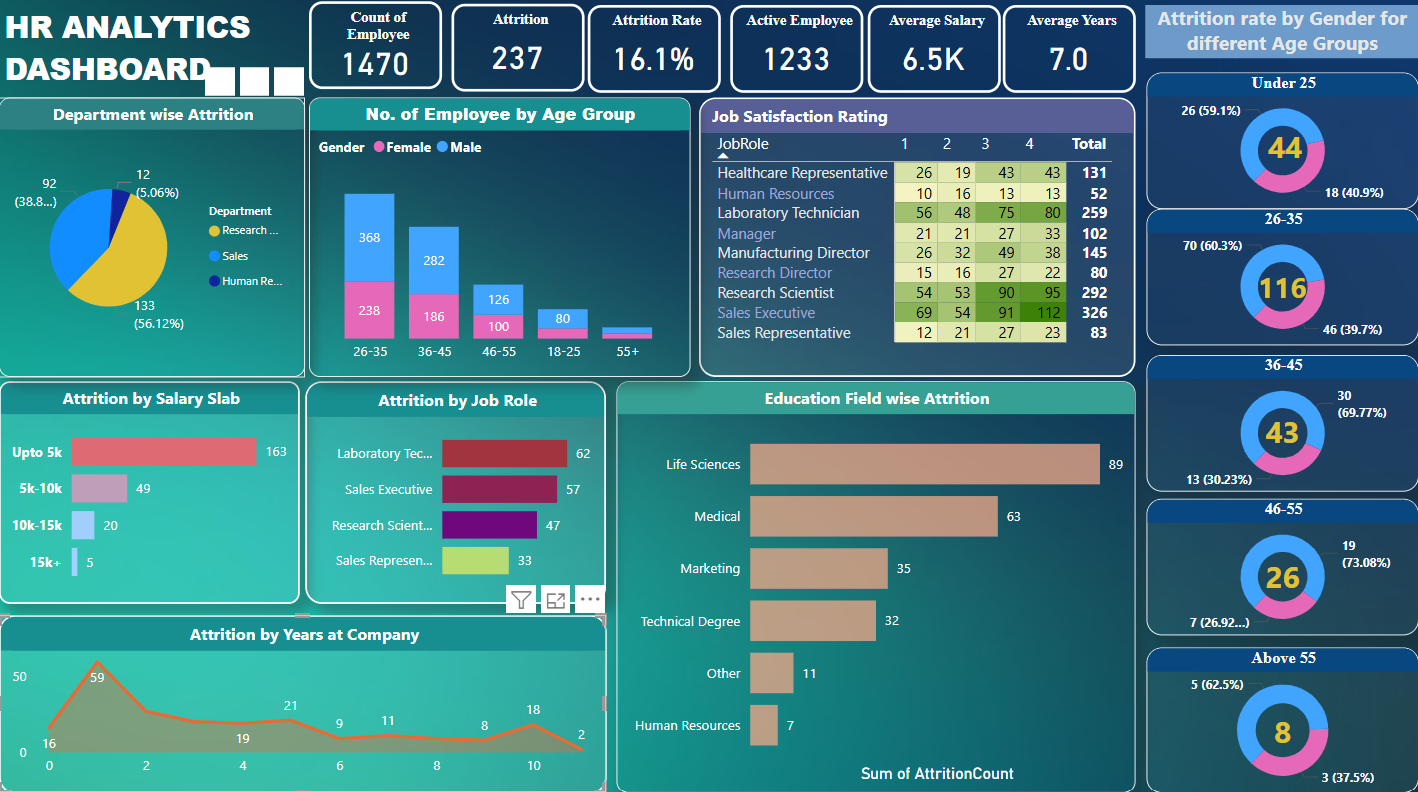

What the dashboard file says about the page in this screenshot:
{"tool":"powerbi","page":{"name":"Page 1","canvas":[1280,720],"ordinal":0},"visuals":[{"type":"card","title":"Count of Employee","fields":{"Values":["CountNonNull(HR_Analytics.EmpID)"]},"box":[280,6.1,119.8,79.5],"z":0},{"type":"card","title":"Attrition","fields":{"Values":["Sum(HR_Analytics.AttritionCount)"]},"box":[408.4,7.3,119.8,79.5],"z":1000},{"type":"card","title":"Attrition Rate","fields":{"Values":["HR_Analytics.RateAttrition"]},"box":[530.7,8.6,119.8,79.5],"z":2000},{"type":"card","title":"Average Salary","fields":{"Values":["Avg(HR_Analytics.MonthlyIncome)"]},"box":[783.8,8.6,119.8,79.5],"z":3000},{"type":"card","title":"Average Years","fields":{"Values":["Avg(HR_Analytics.YearsAtCompany)"]},"box":[904.9,8.6,119.8,79.5],"z":4000},{"type":"barChart","title":"Attrition by Salary Slab","fields":{"Category":["HR_Analytics.SalarySlab"],"Y":["Sum(HR_Analytics.AttritionCount)"]},"box":[0,348.5,271.5,200.5],"z":7000},{"type":"barChart","title":"Attrition by Job Role","fields":{"Category":["HR_Analytics.JobRole"],"Y":["Sum(HR_Analytics.AttritionCount)"]},"box":[276.4,348.5,271.5,200.5],"z":8000},{"type":"areaChart","title":"Attrition by Years at Company","fields":{"Category":["HR_Analytics.YearsAtCompany"],"Y":["Sum(HR_Analytics.AttritionCount)"]},"box":[0,558.8,547.8,161.4],"z":9000},{"type":"textbox","box":[0,4.9,280,100.3],"z":11000},{"type":"card","title":"Active Employee","fields":{"Values":["HR_Analytics.Active Employees"]},"box":[659.1,8.6,119.8,79.5],"z":12000},{"type":"barChart","title":"Education Field wise Attrition","fields":{"Category":["HR_Analytics.EducationField"],"Y":["Sum(HR_Analytics.AttritionCount)"]},"box":[556.4,348.5,468.3,371.7],"z":13000},{"type":"pieChart","title":"Department wise Attrition ","fields":{"Category":["HR_Analytics.Department"],"Y":["Sum(HR_Analytics.AttritionCount)"]},"box":[0,92.9,276.4,251.9],"z":14000},{"type":"textbox","title":"Attrition rate by Gender for different Age Groups","box":[1033.3,8.6,247,47.7],"z":15000},{"type":"donutChart","title":"Under 25","fields":{"Category":["HR_Analytics.Gender"],"Y":["Sum(HR_Analytics.AttritionCount)"],"Series":["HR_Analytics.AgeGroup"]},"box":[1034.5,69.7,245.8,123.5],"z":16000},{"type":"donutChart","title":"26-35","fields":{"Category":["HR_Analytics.Gender"],"Y":["Sum(HR_Analytics.AttritionCount)"],"Series":["HR_Analytics.AgeGroup"]},"box":[1034.5,193.2,245.8,123.5],"z":17000},{"type":"donutChart","title":"36-45","fields":{"Category":["HR_Analytics.Gender"],"Y":["Sum(HR_Analytics.AttritionCount)"],"Series":["HR_Analytics.AgeGroup"]},"box":[1034.7,325,245.8,123.5],"z":18000},{"type":"donutChart","title":"46-55","fields":{"Category":["HR_Analytics.Gender"],"Y":["Sum(HR_Analytics.AttritionCount)"],"Series":["HR_Analytics.AgeGroup"]},"box":[1034.7,454.6,245.8,123.5],"z":19000},{"type":"donutChart","title":"Above 55","fields":{"Category":["HR_Analytics.Gender"],"Y":["Sum(HR_Analytics.AttritionCount)"],"Series":["HR_Analytics.AgeGroup"]},"box":[1034.7,587.9,245.8,132.1],"z":20000},{"type":"card","fields":{"Values":["Sum(HR_Analytics.AttritionCount)"]},"box":[1137.2,117.4,45.2,41.6],"z":20001},{"type":"card","fields":{"Values":["Sum(HR_Analytics.AttritionCount)"]},"box":[1126.2,239.7,62.4,48.9],"z":20006},{"type":"card","fields":{"Values":["Sum(HR_Analytics.AttritionCount)"]},"box":[1134.8,374.2,45.2,41.6],"z":20007},{"type":"card","fields":{"Values":["Sum(HR_Analytics.AttritionCount)"]},"box":[1134.8,505,45.2,41.6],"z":20008},{"type":"card","fields":{"Values":["Sum(HR_Analytics.AttritionCount)"]},"box":[1134.8,644.4,45.2,41.6],"z":20009},{"type":"pivotTable","title":"Job Satisfaction Rating","fields":{"Rows":["HR_Analytics.JobRole"],"Columns":["HR_Analytics.JobSatisfaction"],"Values":["Sum(HR_Analytics.EmployeeCount)"]},"box":[631,92.9,393.8,251.9],"z":20010},{"type":"columnChart","title":"No. of Employee by Age Group","fields":{"Category":["HR_Analytics.AgeGroup"],"Y":["Sum(HR_Analytics.EmployeeCount)"],"Series":["HR_Analytics.Gender"]},"box":[280,92.9,343.6,251.9],"z":20011}]}

Visuals, with their boxes in screenshot pixels (x1, y1, x2, y2), scaled from the page's 1280x720 canvas onto the 1418x792 screenshot:
"Count of Employee" card: [left=310, top=7, right=443, bottom=94]
"Attrition" card: [left=452, top=8, right=585, bottom=95]
"Attrition Rate" card: [left=588, top=9, right=721, bottom=97]
"Average Salary" card: [left=868, top=9, right=1001, bottom=97]
"Average Years" card: [left=1002, top=9, right=1135, bottom=97]
"Attrition by Salary Slab" barChart: [left=0, top=383, right=301, bottom=604]
"Attrition by Job Role" barChart: [left=306, top=383, right=607, bottom=604]
"Attrition by Years at Company" areaChart: [left=0, top=615, right=607, bottom=791]
textbox: [left=0, top=5, right=310, bottom=116]
"Active Employee" card: [left=730, top=9, right=863, bottom=97]
"Education Field wise Attrition" barChart: [left=616, top=383, right=1135, bottom=791]
"Department wise Attrition " pieChart: [left=0, top=102, right=306, bottom=379]
"Attrition rate by Gender for different Age Groups" textbox: [left=1145, top=9, right=1417, bottom=62]
"Under 25" donutChart: [left=1146, top=77, right=1417, bottom=213]
"26-35" donutChart: [left=1146, top=213, right=1417, bottom=348]
"36-45" donutChart: [left=1146, top=358, right=1417, bottom=493]
"46-55" donutChart: [left=1146, top=500, right=1417, bottom=636]
"Above 55" donutChart: [left=1146, top=647, right=1417, bottom=791]
card - Sum(HR_Analytics.AttritionCount): [left=1260, top=129, right=1310, bottom=175]
card - Sum(HR_Analytics.AttritionCount): [left=1248, top=264, right=1317, bottom=317]
card - Sum(HR_Analytics.AttritionCount): [left=1257, top=412, right=1307, bottom=457]
card - Sum(HR_Analytics.AttritionCount): [left=1257, top=556, right=1307, bottom=601]
card - Sum(HR_Analytics.AttritionCount): [left=1257, top=709, right=1307, bottom=755]
"Job Satisfaction Rating" pivotTable: [left=699, top=102, right=1135, bottom=379]
"No. of Employee by Age Group" columnChart: [left=310, top=102, right=691, bottom=379]
